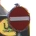No entry: (6, 5, 30, 31)
